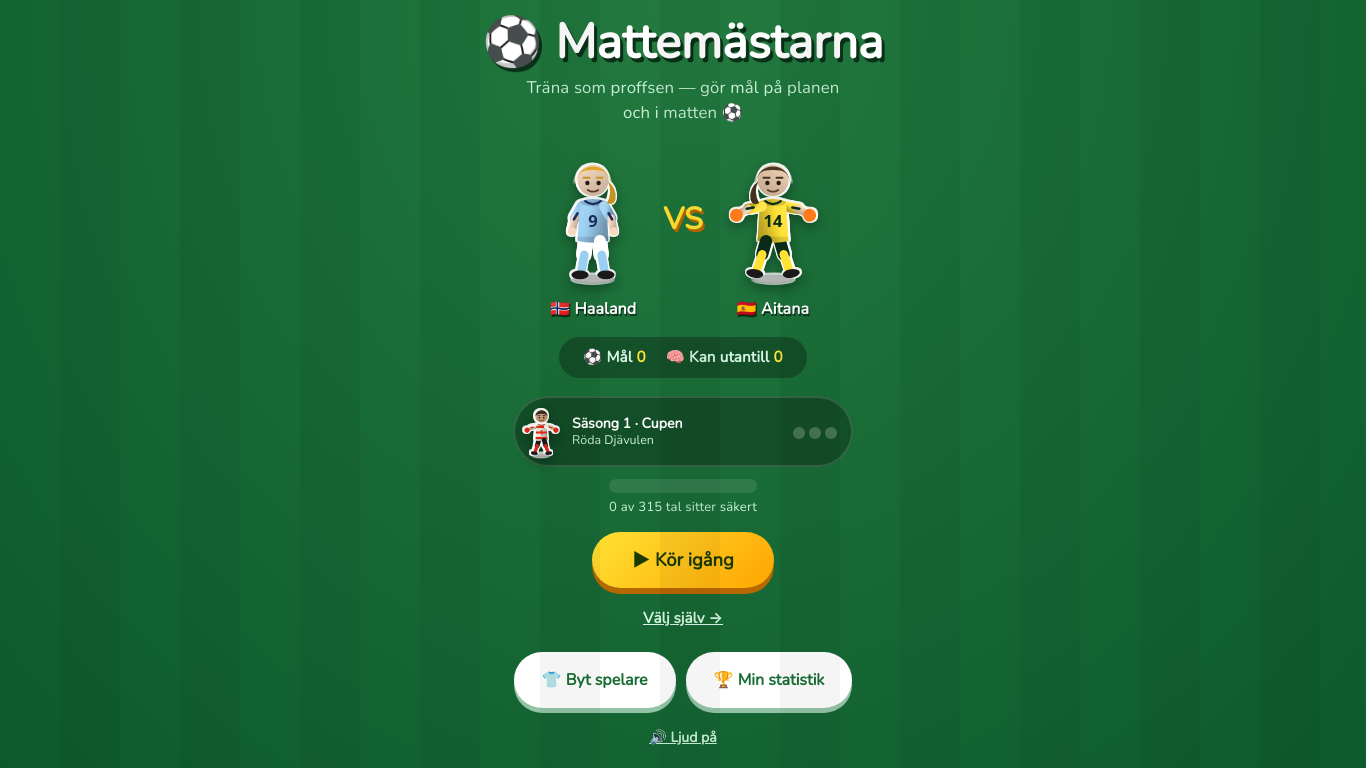
Test: Snabbskott (arcade), through the real component tree › publishes the duration on the chip before the child commits
Click the button "Välj själv →" at (683, 618), box [627,596,739,640]
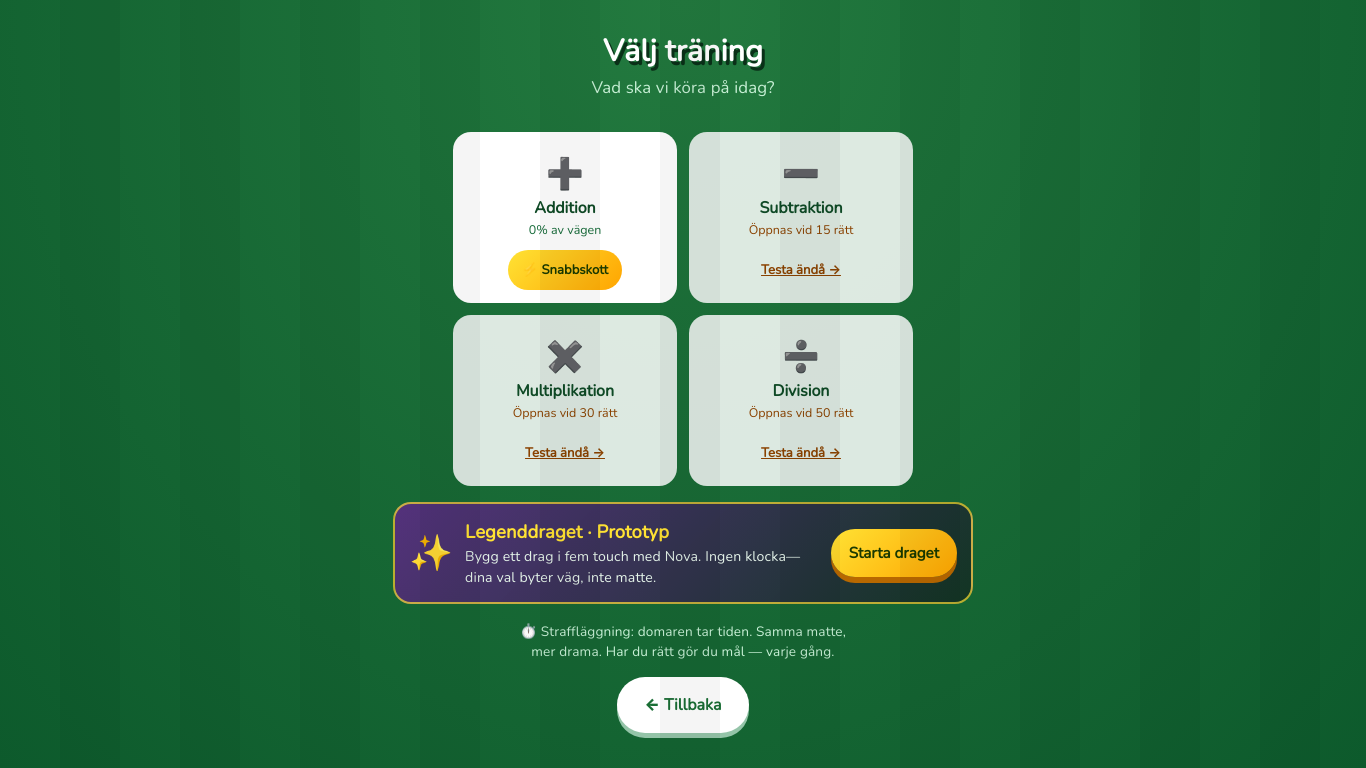
Click the button "⚡ Snabbskott" at (565, 270), box [508,250,622,290]
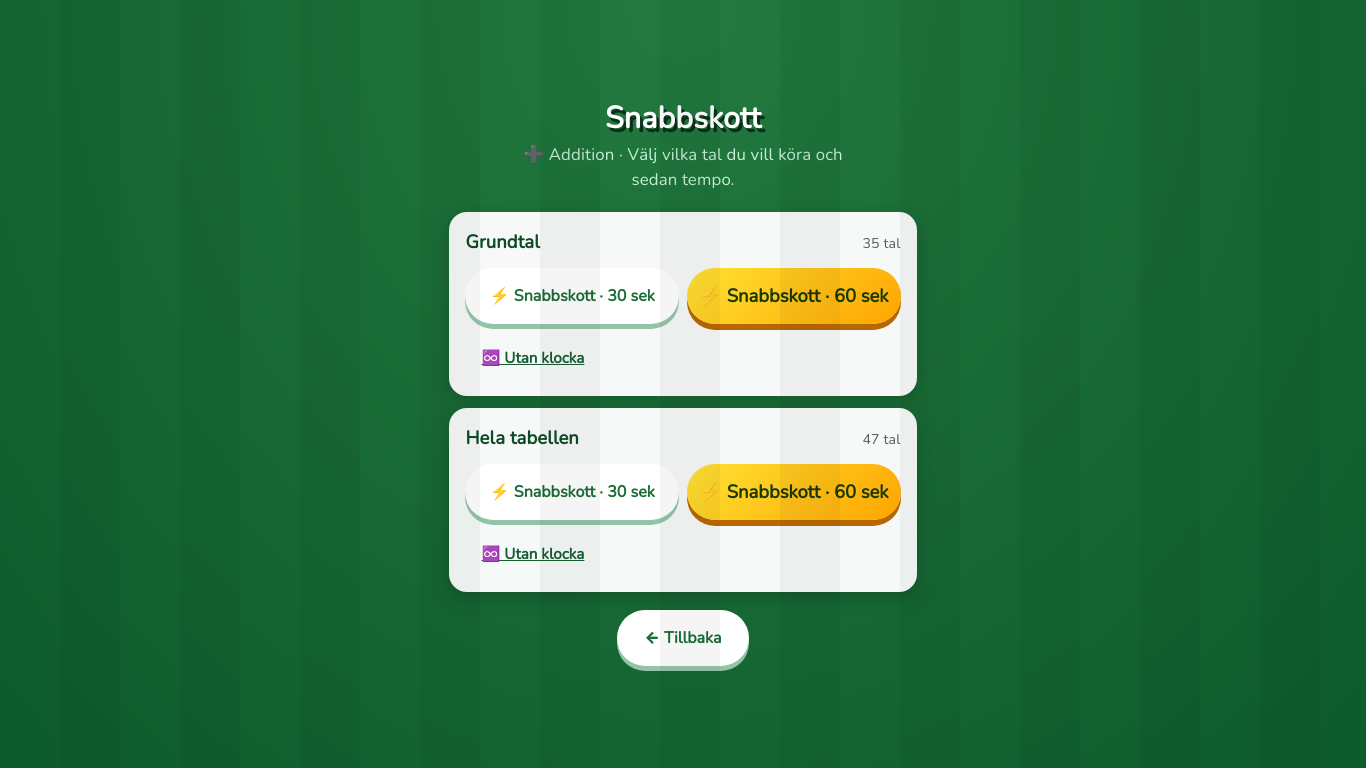
Check: the button "⚡ Snabbskott · 30 sek" below "Grundtal" is shown, box [466,268,679,324]
